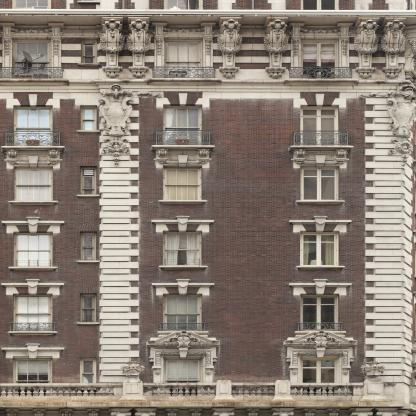Balcony: (0, 382, 384, 407)
Building Outline: (0, 0, 416, 416)
Cornice: (283, 331, 358, 375), (146, 331, 220, 375), (4, 149, 63, 168), (153, 149, 212, 168), (291, 149, 349, 168), (1, 217, 64, 233), (151, 216, 214, 232), (289, 216, 352, 232), (1, 279, 64, 295), (152, 279, 215, 295), (289, 279, 352, 295), (1, 343, 64, 358), (6, 94, 60, 108), (156, 93, 209, 107), (293, 94, 346, 107)
Deco: (98, 84, 162, 167), (358, 84, 416, 167), (353, 17, 380, 78), (380, 17, 407, 78), (100, 17, 126, 78), (126, 17, 152, 78), (217, 17, 243, 78), (264, 17, 289, 78), (360, 361, 386, 382), (120, 361, 145, 382)
Door: (301, 359, 336, 396)
Facade: (0, 0, 416, 416)
Floor: (0, 85, 416, 150), (0, 153, 416, 217), (0, 18, 416, 82), (0, 283, 416, 345), (0, 220, 416, 280), (0, 347, 416, 404), (0, 0, 416, 15)
Floor Slab: (0, 150, 416, 153), (0, 15, 416, 18), (0, 217, 416, 220), (0, 280, 416, 283), (0, 345, 416, 348), (0, 404, 416, 407), (0, 83, 416, 86)
Molding: (11, 27, 53, 33), (300, 27, 341, 33), (163, 27, 204, 32)
Pillar: (364, 99, 413, 386), (99, 98, 139, 397)
Sill: (157, 331, 208, 337), (295, 331, 346, 337), (295, 200, 345, 205), (8, 201, 58, 205), (158, 200, 208, 204), (8, 267, 58, 271), (158, 266, 208, 270), (295, 266, 345, 270), (8, 331, 58, 335)
Window: (163, 106, 202, 145), (300, 107, 339, 145), (301, 40, 339, 79), (14, 107, 52, 146), (164, 39, 202, 78), (14, 40, 52, 79), (14, 294, 52, 331), (14, 359, 52, 396), (163, 295, 202, 331), (301, 295, 338, 331), (300, 232, 339, 266), (163, 232, 202, 266), (14, 233, 53, 267), (165, 359, 200, 396), (301, 167, 339, 200), (163, 167, 201, 200), (14, 168, 53, 200), (80, 294, 96, 322), (80, 358, 96, 386), (81, 233, 96, 261), (81, 168, 96, 195), (301, 0, 338, 10), (165, 0, 202, 10), (81, 106, 96, 130), (81, 40, 96, 63), (14, 0, 50, 9)
